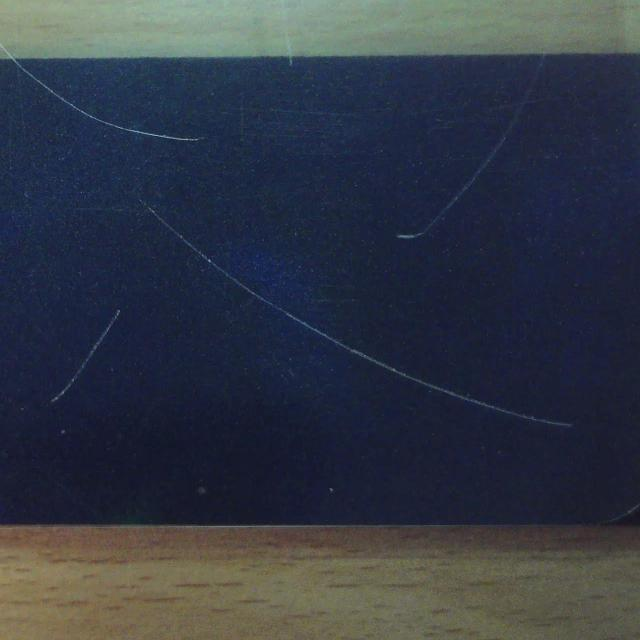defect: (140, 198, 572, 428), (399, 55, 547, 237), (9, 58, 204, 146), (56, 311, 119, 404), (286, 58, 299, 66)
